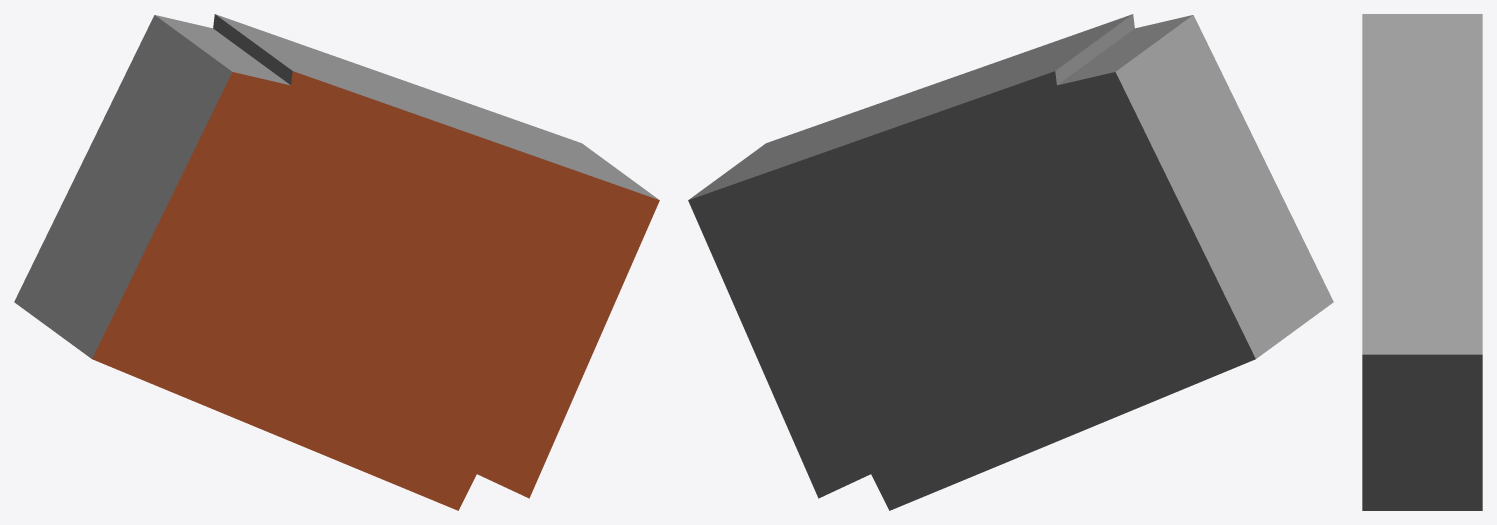
The model's file is construction_3108_assumed_A_Casa_h6m.obj.
The picture shows the model from 3 angles, left to right: view 1: azimuth 30°, elevation 25°; view 2: azimuth 150°, elevation 25°; view 3: azimuth 270°, elevation 25°; orthographic projection. The views are drawn at different scales.
Parts seen in each view (by area): view 1: construction_3108_assumed_A_Casa; view 2: construction_3108_assumed_A_Casa; view 3: construction_3108_assumed_A_Casa.
Part boxes in pixels (x1,y1,x2,y2): construction_3108_assumed_A_Casa: (14,14,659,510); construction_3108_assumed_A_Casa: (688,14,1333,510); construction_3108_assumed_A_Casa: (1362,14,1482,510).
Bounding box in the file's own units: 25.23 × 21.2 × 6.
